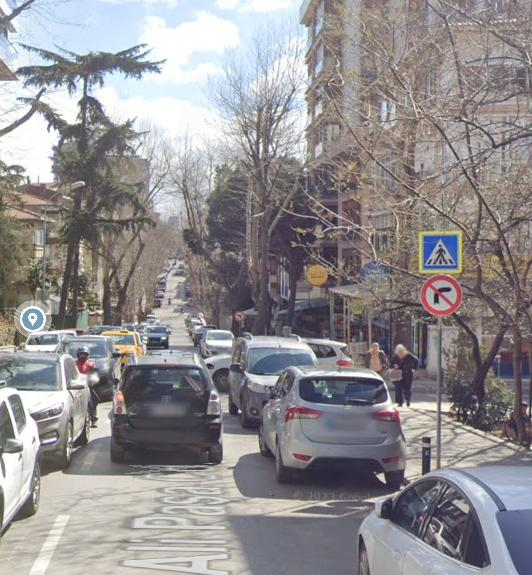rightturnsareforbidden: (421, 274, 461, 316)
